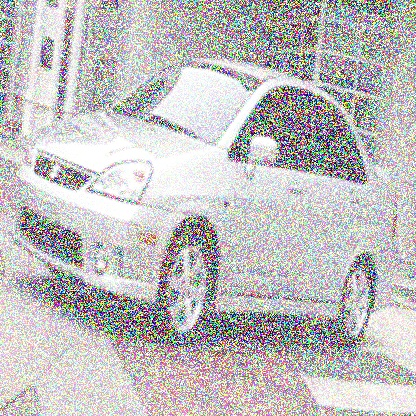Vehicle: (11, 54, 402, 348)
